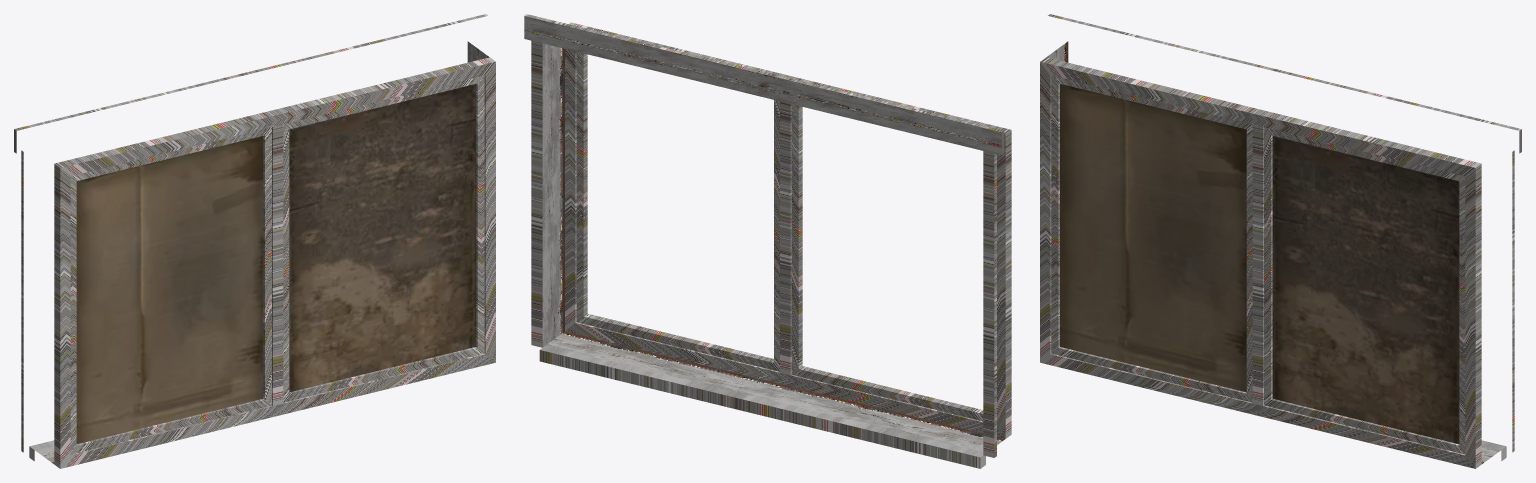
File: window_corridor_small_opaque_a.glb
3 renders of one model, left to right at view 1: azimuth 30°, elevation 25°; view 2: azimuth 150°, elevation 25°; view 3: azimuth 330°, elevation 25°, orthographic.
Parts seen in each view (by area): view 1: n_glass_corridor_small_opaque_a, window_corridor_small_opaque_a; view 2: window_corridor_small_opaque_a; view 3: n_glass_corridor_small_opaque_a, window_corridor_small_opaque_a.
Part boxes in pixels (<box>): n_glass_corridor_small_opaque_a: <box>76,84,475,443</box>; window_corridor_small_opaque_a: <box>14,14,495,468</box>; window_corridor_small_opaque_a: <box>524,14,1011,468</box>; n_glass_corridor_small_opaque_a: <box>1060,84,1459,443</box>; window_corridor_small_opaque_a: <box>1040,14,1521,468</box>.
Bounding box in the file's own units: 2.71 × 1.84 × 0.3078.
2 materials, 2 textured.
